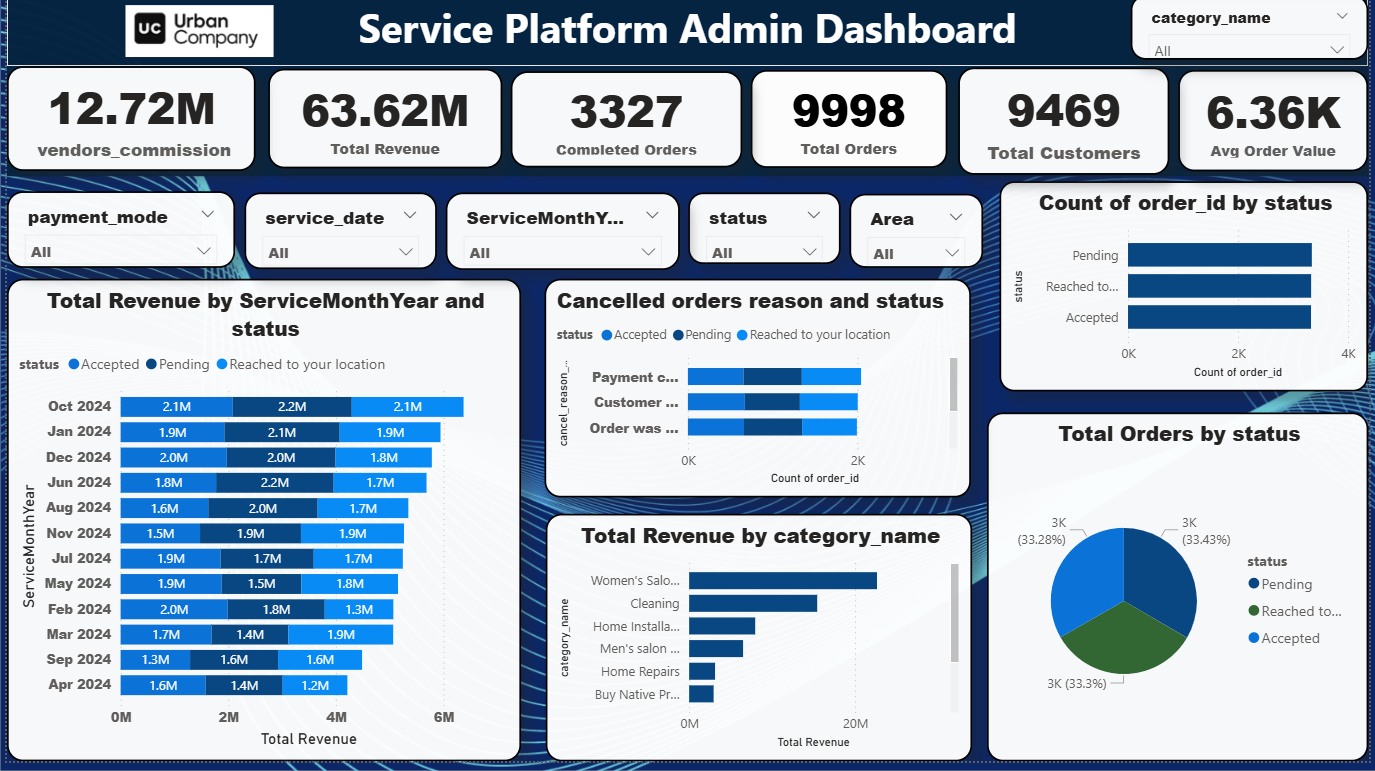

The dashboard page shown, as its layout file describes it:
{"tool":"powerbi","page":{"name":"Admin","canvas":[1280,720],"ordinal":1},"visuals":[{"type":"card","fields":{"Values":["customers_vendors_with_area.Total Orders"]},"box":[699.1,70.9,184.5,91.6],"z":0,"group":"g1"},{"type":"barChart","fields":{"Category":["customers_vendors_with_area.status"],"Y":["CountNonNull(customers_vendors_with_area.order_id)"]},"box":[932.9,175.1,346.6,197.4],"z":0},{"type":"slicer","fields":{"Values":["customers_vendors_with_area.status"]},"box":[640.3,185.7,143.3,67],"z":0,"group":"g2"},{"type":"card","fields":{"Values":["customers_vendors_with_area.Total Revenue"]},"box":[245.6,69.8,219.7,94],"z":1000,"group":"g1"},{"type":"slicer","fields":{"Values":["customers_vendors_with_area.payment_mode"]},"box":[0,184,214.2,71.7],"z":1000,"group":"g2"},{"type":"barChart","fields":{"Category":["customers_vendors_with_area.ServiceMonthYear"],"Y":["customers_vendors_with_area.Total Revenue"],"Series":["customers_vendors_with_area.status"]},"box":[0,266.7,482.9,453.5],"z":1000},{"type":"card","fields":{"Values":["customers_vendors_with_area.Completed Orders"]},"box":[473.5,72.1,217.4,90.5],"z":2000,"group":"g1"},{"type":"slicer","fields":{"Values":["customers_vendors_with_area.service_date"]},"box":[223.2,185.7,180.9,71.7],"z":2000,"group":"g2"},{"type":"barChart","fields":{"Y":["customers_vendors_with_area.Total Revenue"],"Category":["category.category_name"]},"box":[506.4,487.6,400.7,232.6],"z":2000},{"type":"card","fields":{"Values":["customers_vendors_with_area.Avg Order Value"]},"box":[1100.9,70.9,178.6,95.2],"z":3000,"group":"g1"},{"type":"slicer","fields":{"Values":["customers_vendors_with_area.ServiceMonthYear"]},"box":[412.4,185.7,219.7,72.8],"z":3000,"group":"g2"},{"type":"pieChart","fields":{"Category":["customers_vendors_with_area.status"],"Y":["customers_vendors_with_area.Total Orders"]},"box":[921.2,392.4,358.4,327.8],"z":3000},{"type":"textbox","box":[0,0,1279.5,67],"z":4000},{"type":"card","fields":{"Values":["Sum(customers_vendors_with_area.vendors_commission_amount)"]},"box":[0,67,233.8,98.7],"z":4000,"group":"g1"},{"type":"slicer","fields":{"Values":["customers_vendors_with_area.Area"]},"box":[791.9,185.9,125.7,69.3],"z":4000,"group":"g2"},{"type":"group","id":"g1","title":"Group 1","box":[0,67,1279.5,103.4],"z":5000},{"type":"group","id":"g2","title":"Group 2","box":[0,184,917.6,74.6],"z":6000},{"type":"barChart","title":" Cancelled orders reason  and status","fields":{"Category":["customers_vendors_with_area.cancel_reason_note"],"Series":["customers_vendors_with_area.status"],"Y":["CountNonNull(customers_vendors_with_area.order_id)"]},"box":[505.2,266.7,400.7,205.6],"z":7000},{"type":"slicer","fields":{"Values":["category.category_name"]},"box":[1056.3,0,223.2,61.1],"z":8000},{"type":"image","box":[48.2,4.7,265.5,58.7],"z":9000},{"type":"card","fields":{"Values":["customers_vendors_with_area.Total Customers"]},"box":[894.1,68.6,198.6,101],"z":11001,"group":"g1"}]}

Visuals, with their boxes in screenshot pixels (x1, y1, x2, y2), scaled from the page's 1280x720 canvas onto the 1375x771 screenshot:
card - customers_vendors_with_area.Total Orders: <bbox>751, 76, 949, 174</bbox>
barChart - customers_vendors_with_area.status x CountNonNull(customers_vendors_with_area.order_id): <bbox>1002, 188, 1374, 399</bbox>
slicer - customers_vendors_with_area.status: <bbox>688, 199, 842, 271</bbox>
card - customers_vendors_with_area.Total Revenue: <bbox>264, 75, 500, 175</bbox>
slicer - customers_vendors_with_area.payment_mode: <bbox>0, 197, 230, 274</bbox>
barChart - customers_vendors_with_area.ServiceMonthYear x customers_vendors_with_area.Total Revenue: <bbox>0, 286, 519, 770</bbox>
card - customers_vendors_with_area.Completed Orders: <bbox>509, 77, 742, 174</bbox>
slicer - customers_vendors_with_area.service_date: <bbox>240, 199, 434, 276</bbox>
barChart - customers_vendors_with_area.Total Revenue x category.category_name: <bbox>544, 522, 974, 770</bbox>
card - customers_vendors_with_area.Avg Order Value: <bbox>1183, 76, 1374, 178</bbox>
slicer - customers_vendors_with_area.ServiceMonthYear: <bbox>443, 199, 679, 277</bbox>
pieChart - customers_vendors_with_area.status x customers_vendors_with_area.Total Orders: <bbox>990, 420, 1374, 770</bbox>
textbox: <bbox>0, 0, 1374, 72</bbox>
card - Sum(customers_vendors_with_area.vendors_commission_amount): <bbox>0, 72, 251, 177</bbox>
slicer - customers_vendors_with_area.Area: <bbox>851, 199, 986, 273</bbox>
"Group 1" group: <bbox>0, 72, 1374, 182</bbox>
"Group 2" group: <bbox>0, 197, 986, 277</bbox>
" Cancelled orders reason  and status" barChart: <bbox>543, 286, 973, 506</bbox>
slicer - category.category_name: <bbox>1135, 0, 1374, 65</bbox>
image: <bbox>52, 5, 337, 68</bbox>
card - customers_vendors_with_area.Total Customers: <bbox>960, 73, 1174, 182</bbox>
